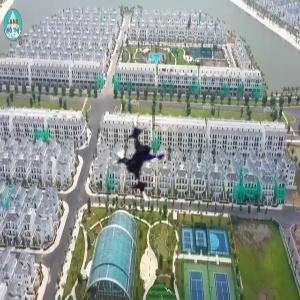drone: (105, 108, 201, 204)
